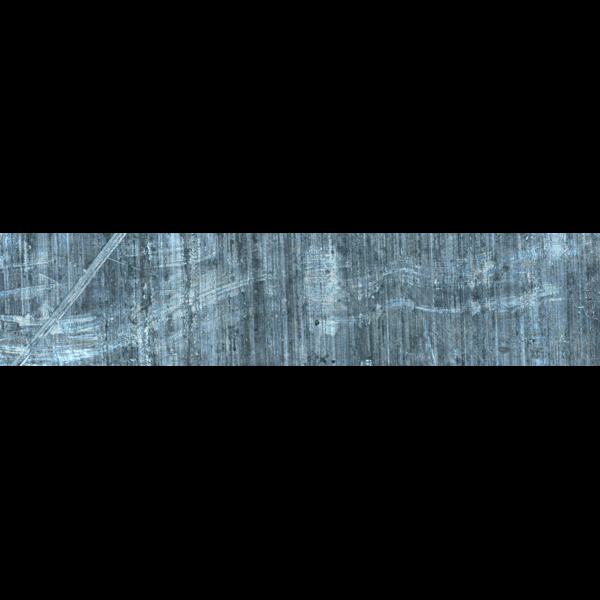d: (4, 233, 134, 360), (302, 251, 570, 312), (137, 233, 273, 325), (295, 246, 359, 343)
